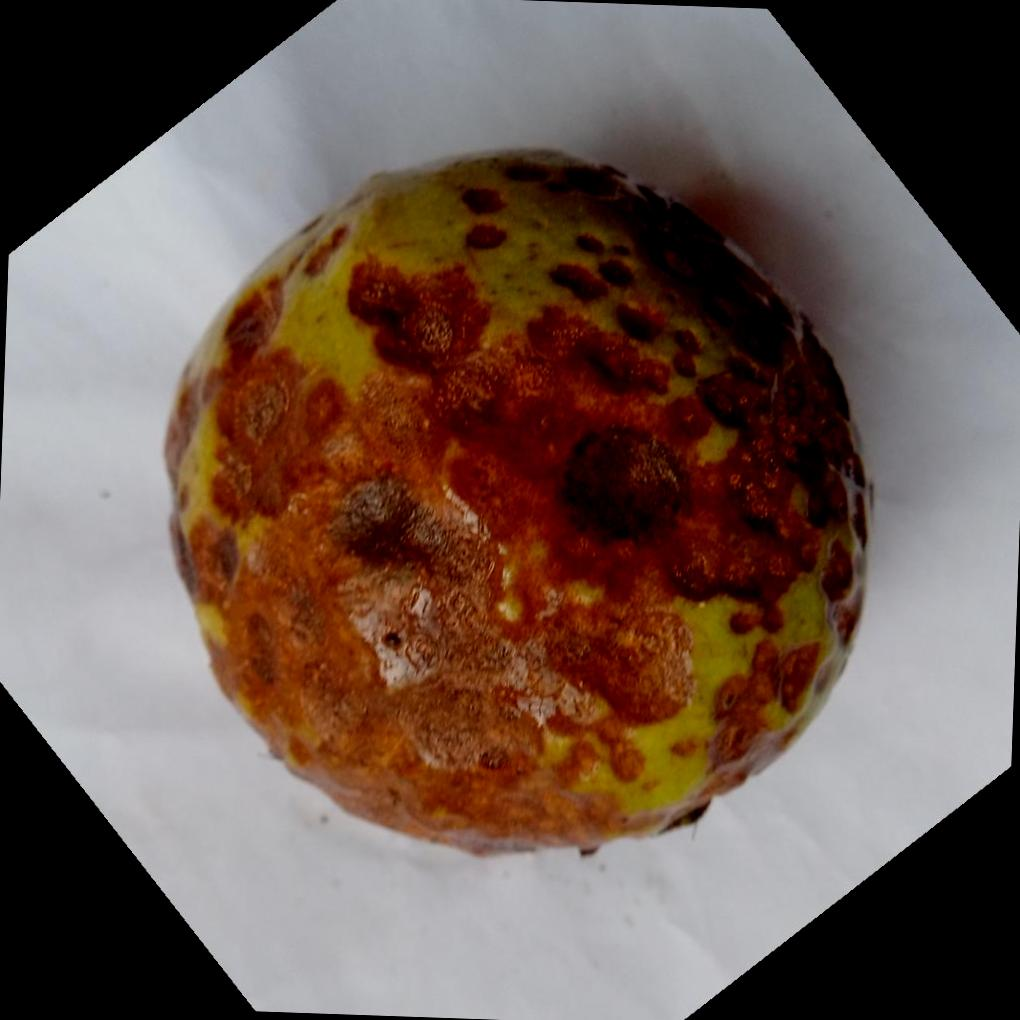FreshOrange: (162, 149, 872, 860)
